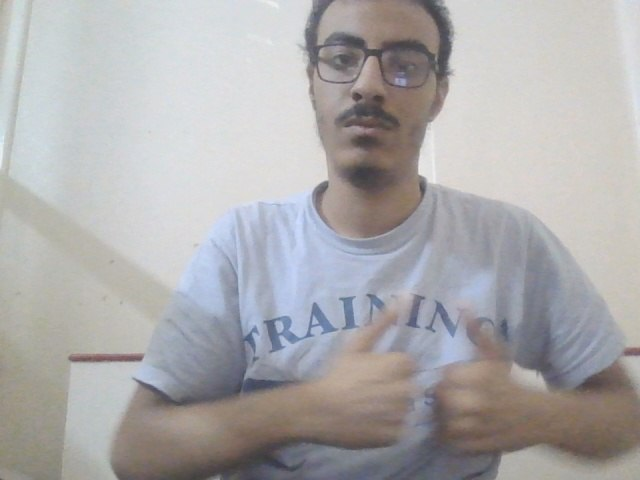Help: (297, 286, 552, 473)
